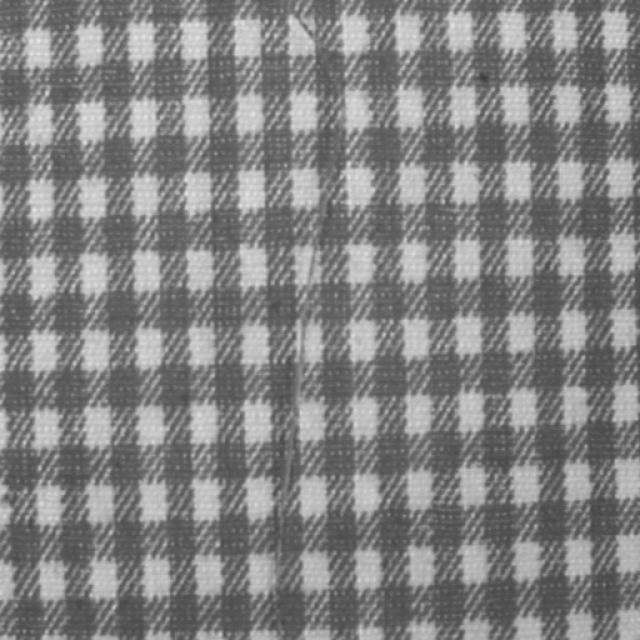Foreign-Body-Defect: (261, 8, 349, 634)
